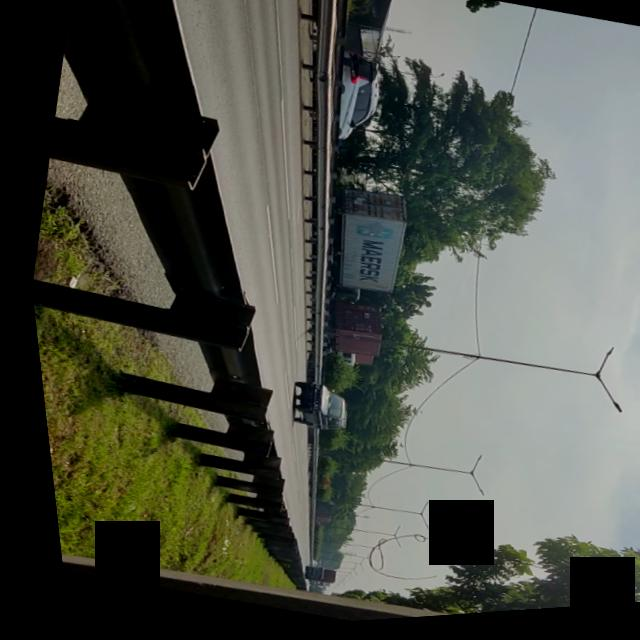Golongan I: (271, 376, 348, 442)
